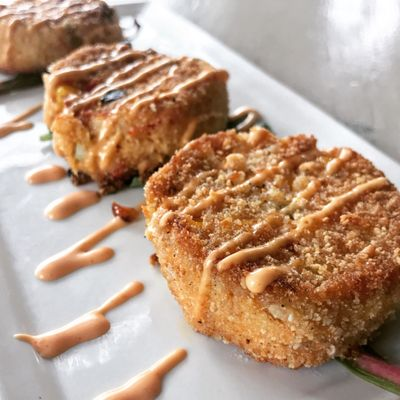sushi: (140, 123, 400, 373), (41, 41, 233, 198)
